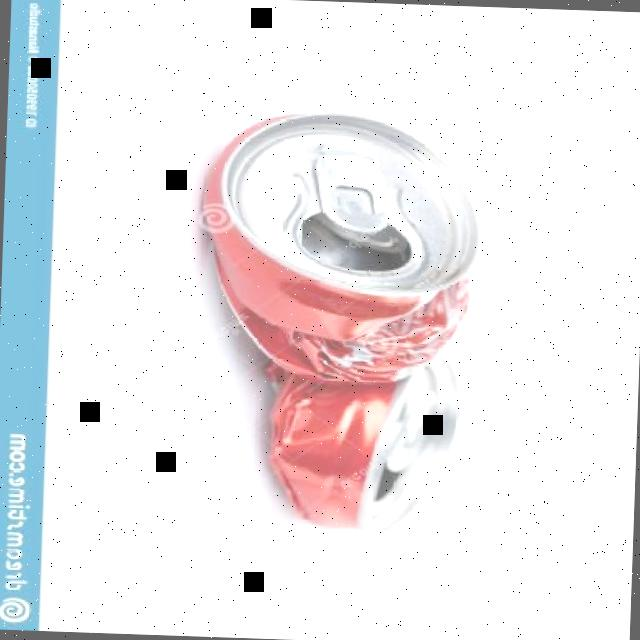can: (188, 103, 484, 546)
